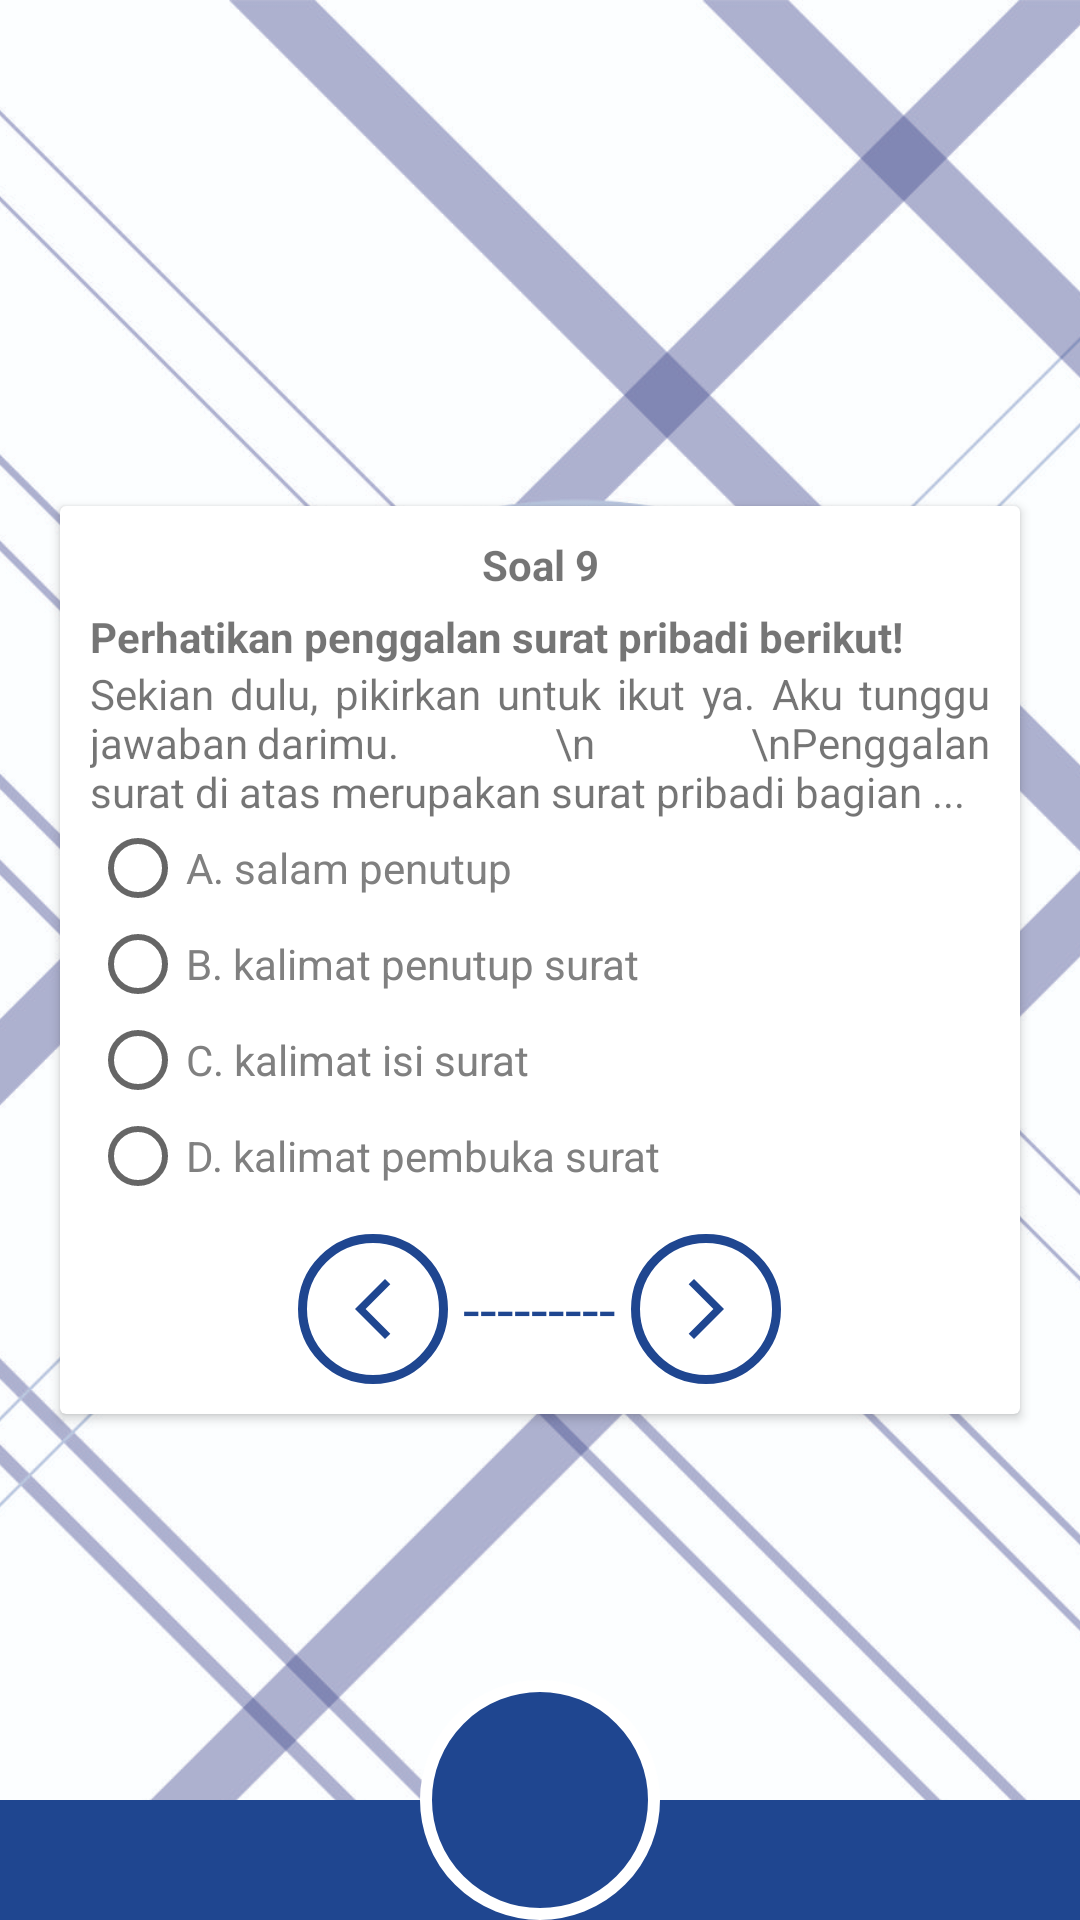

Icon click points for this 1080px×1920px phone screenshot, format (x=x, y=y):
arrow back: (x=373, y=1309)
arrow forward: (x=706, y=1309)
